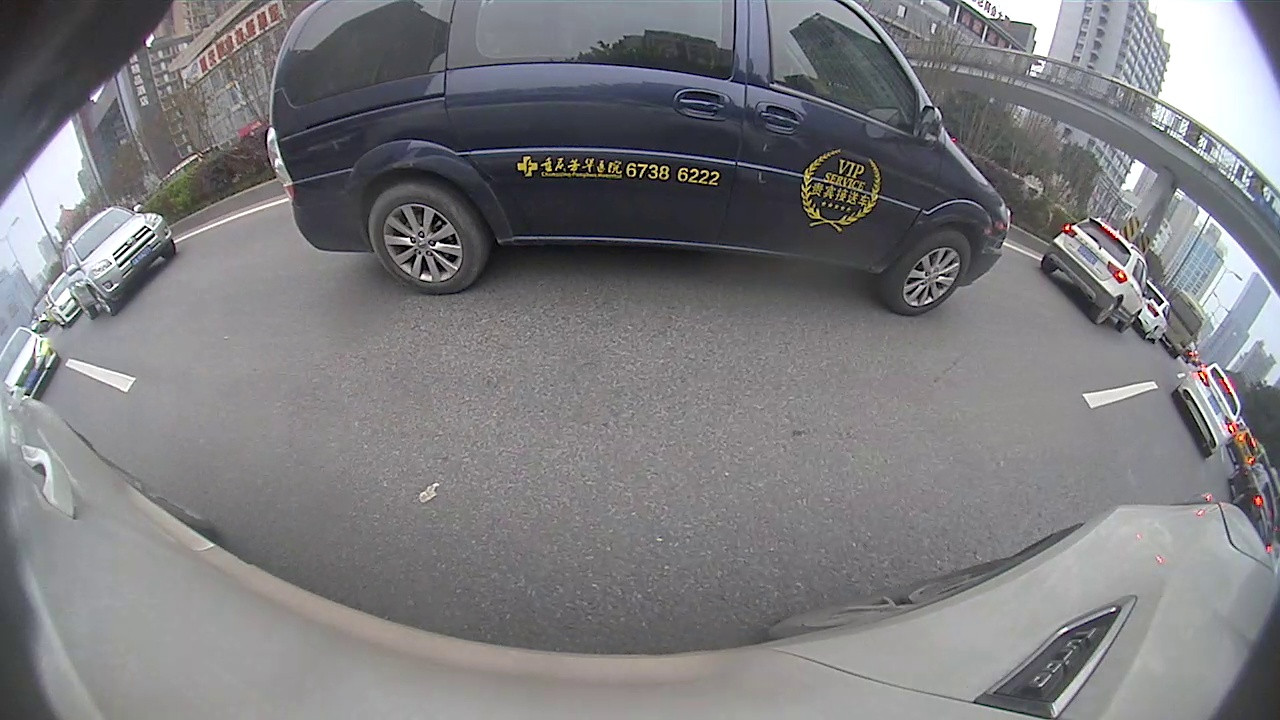car: (264, 4, 1012, 317), (60, 203, 179, 321), (1039, 219, 1153, 332), (1171, 361, 1243, 459)
front: (887, 227, 972, 316), (87, 287, 115, 316)
rear: (367, 183, 489, 295), (1091, 297, 1122, 325)
